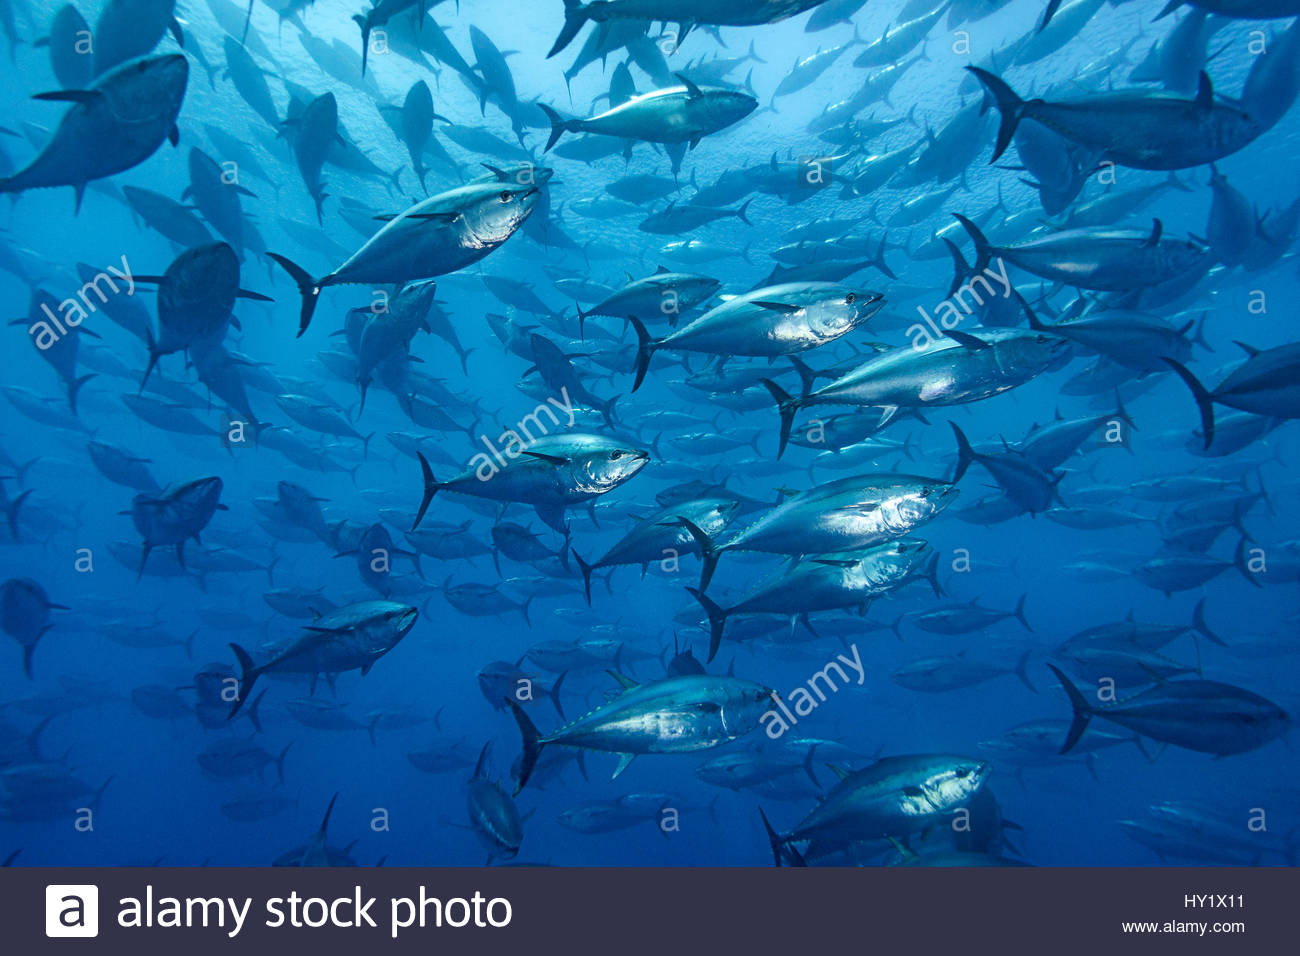Bluefina Tuna: (269, 173, 543, 352), (652, 472, 975, 595), (488, 667, 786, 796), (620, 281, 890, 395)
